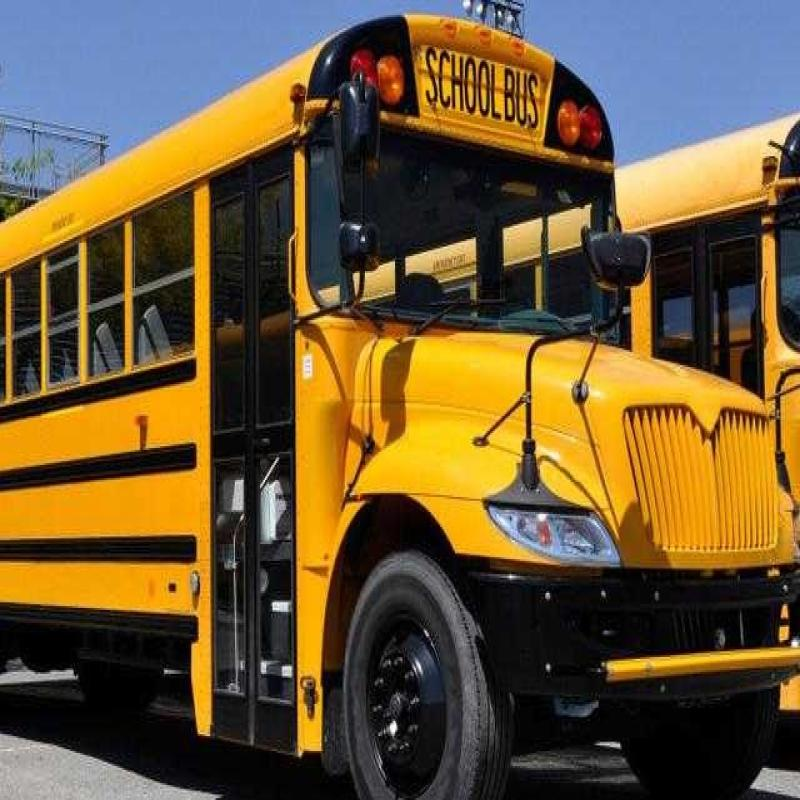bus: (25, 26, 746, 800)
